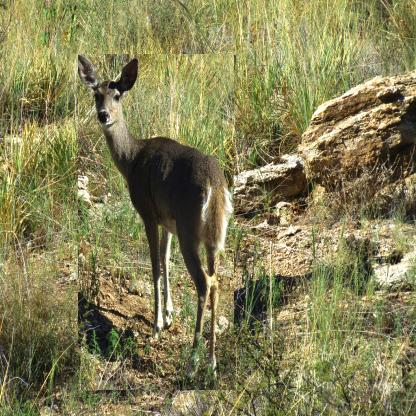Deer: (78, 55, 234, 390)
